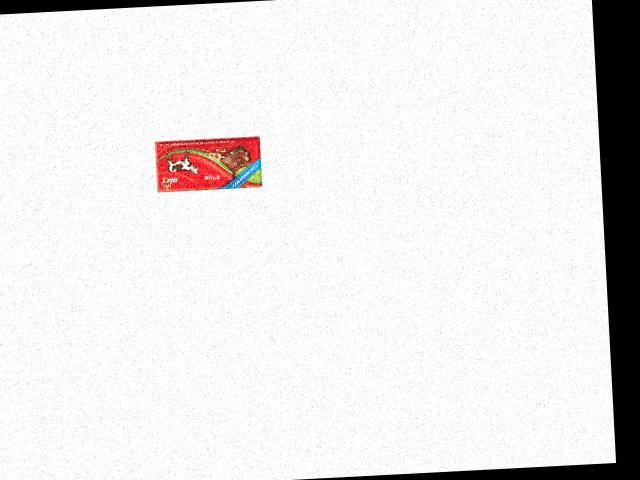chocolate: (150, 137, 261, 193)
